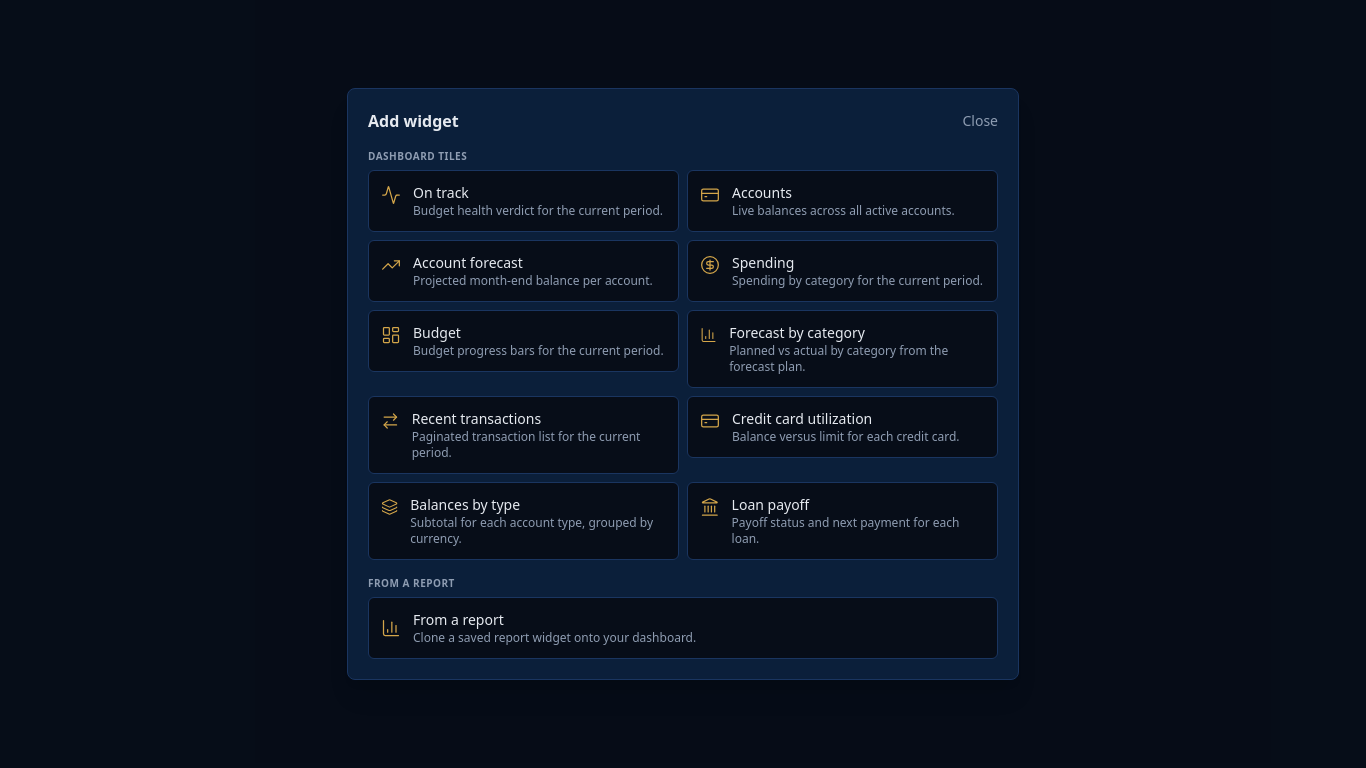
AddWidgetMenu — From a report › shows error message (not empty state) when listReports rejects
Click the button "From a report" at (683, 628), box [368, 597, 998, 659]
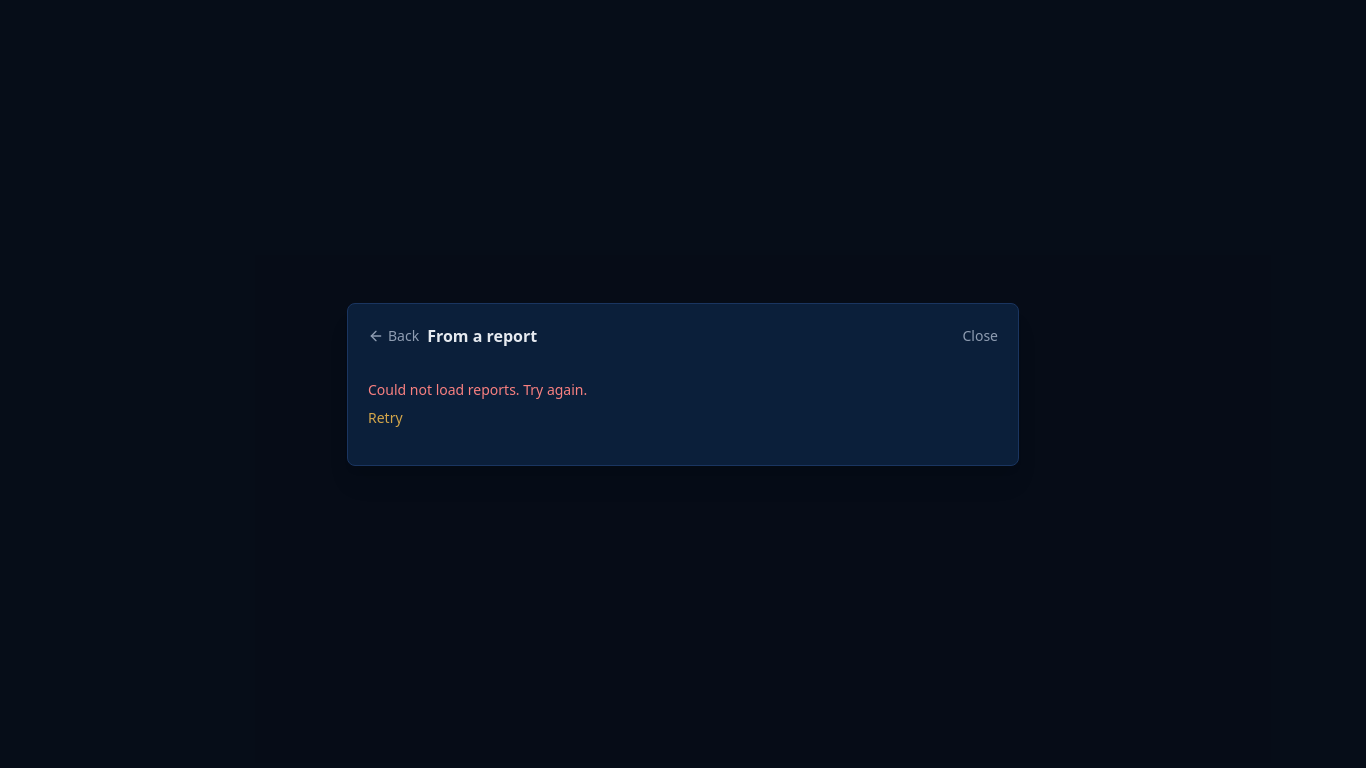
Now the element with test id "add-widget-menu-reports-error" is shown, box [368, 380, 587, 428]
Now the text "Could not load reports. Try again." is shown, box [368, 380, 587, 398]
Now the button "Retry" is shown, box [368, 408, 403, 428]
